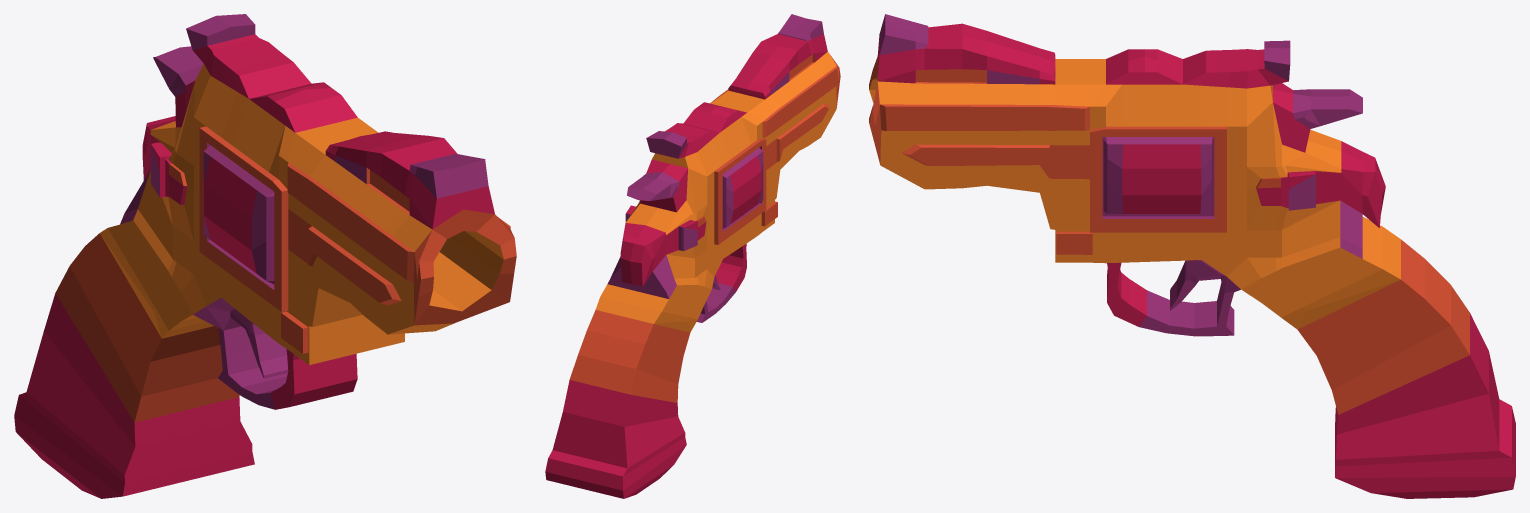
The model's file is revolver.glb.
3 renders of one model, left to right at view 1: azimuth 30°, elevation 25°; view 2: azimuth 150°, elevation 25°; view 3: azimuth 270°, elevation 25°, orthographic. The views are drawn at different scales.
Visible parts, largest first — view 1: Gun; view 2: Gun; view 3: Gun.
Part boxes in pixels (box(x1,y1,x2,y2)): Gun: box(14, 14, 516, 498); Gun: box(545, 14, 840, 498); Gun: box(869, 14, 1515, 498).
Size of the model in its own units: 0.0649 by 0.2532 by 0.3307.
